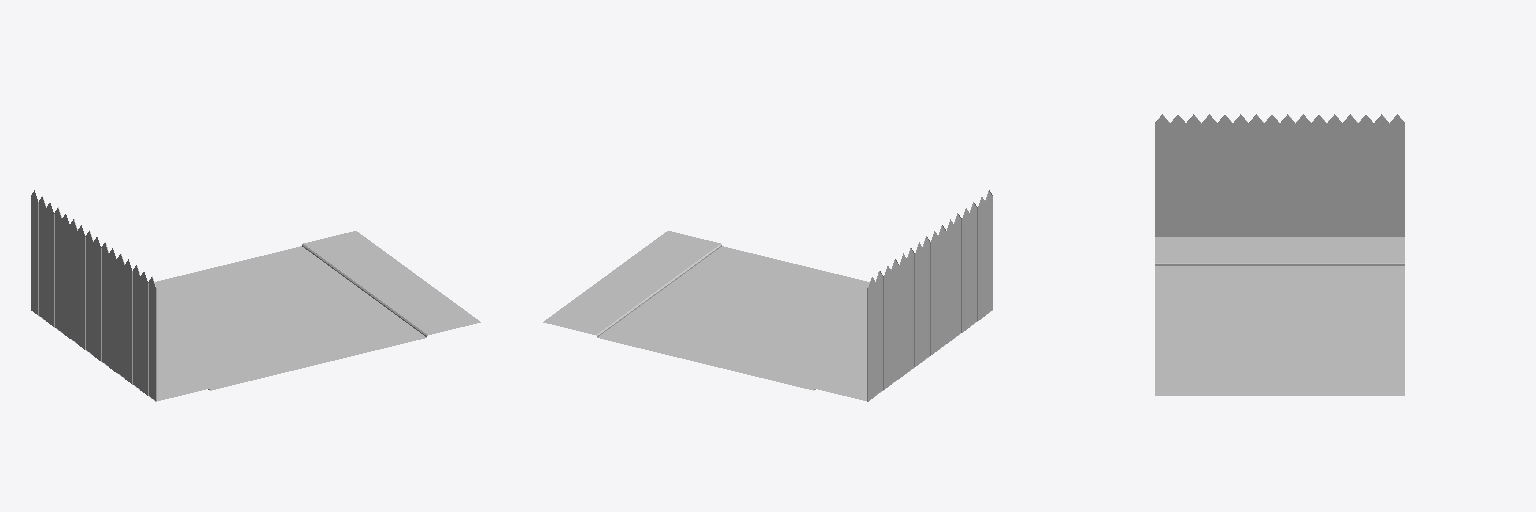
The model's file is road_straight_fence.obj.
The picture shows the model from 3 angles: view 1: azimuth 30°, elevation 25°; view 2: azimuth 150°, elevation 25°; view 3: azimuth 270°, elevation 25°; orthographic projection.
Parts seen in each view (by area): view 1: ROAD_TILE_Plane.003; view 2: ROAD_TILE_Plane.003; view 3: ROAD_TILE_Plane.003.
Boxes of the visible parts, x1=… form: ROAD_TILE_Plane.003: x1=31, y1=190, x2=480, y2=401; ROAD_TILE_Plane.003: x1=543, y1=190, x2=992, y2=401; ROAD_TILE_Plane.003: x1=1155, y1=114, x2=1404, y2=395.
Size of the model in its own units: 30 by 11 by 20.01.